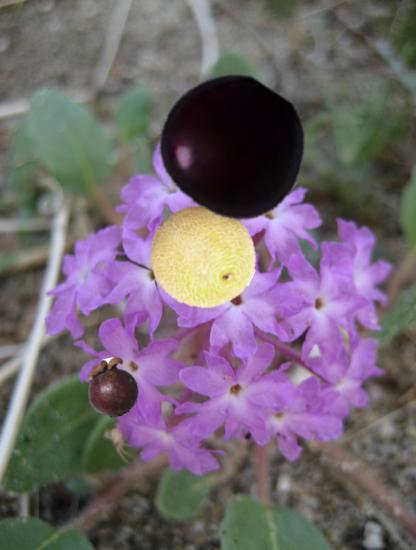Cantaloupe: (150, 204, 257, 311)
Cherry: (160, 72, 308, 220)
Mangostan: (83, 358, 142, 417)
